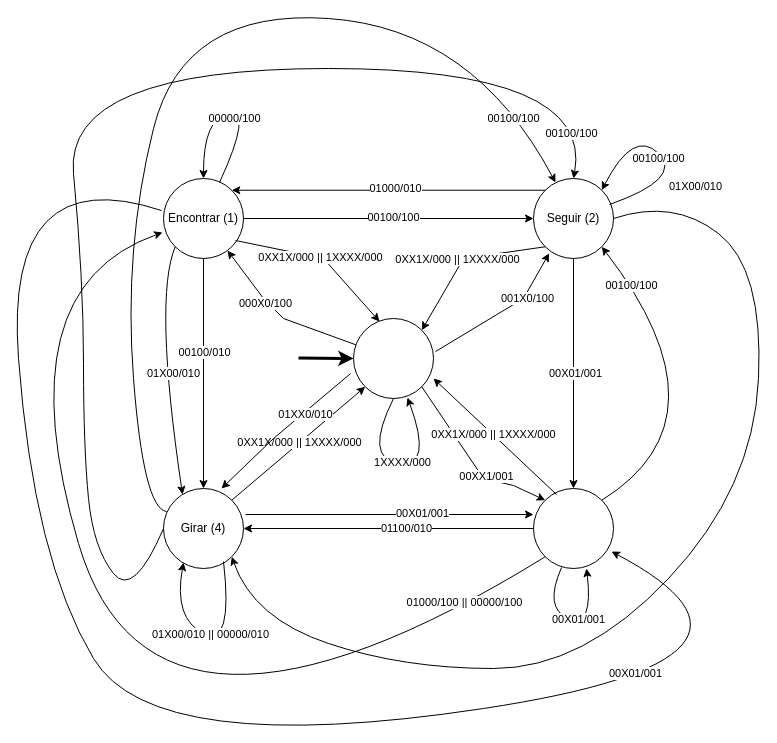
This 777x743 diagram has some shape labels left out. The centre of each missing label's shape, as x and y in pixels:
Remover (3): the point at 573,528
Stand by (0): the point at 393,358
